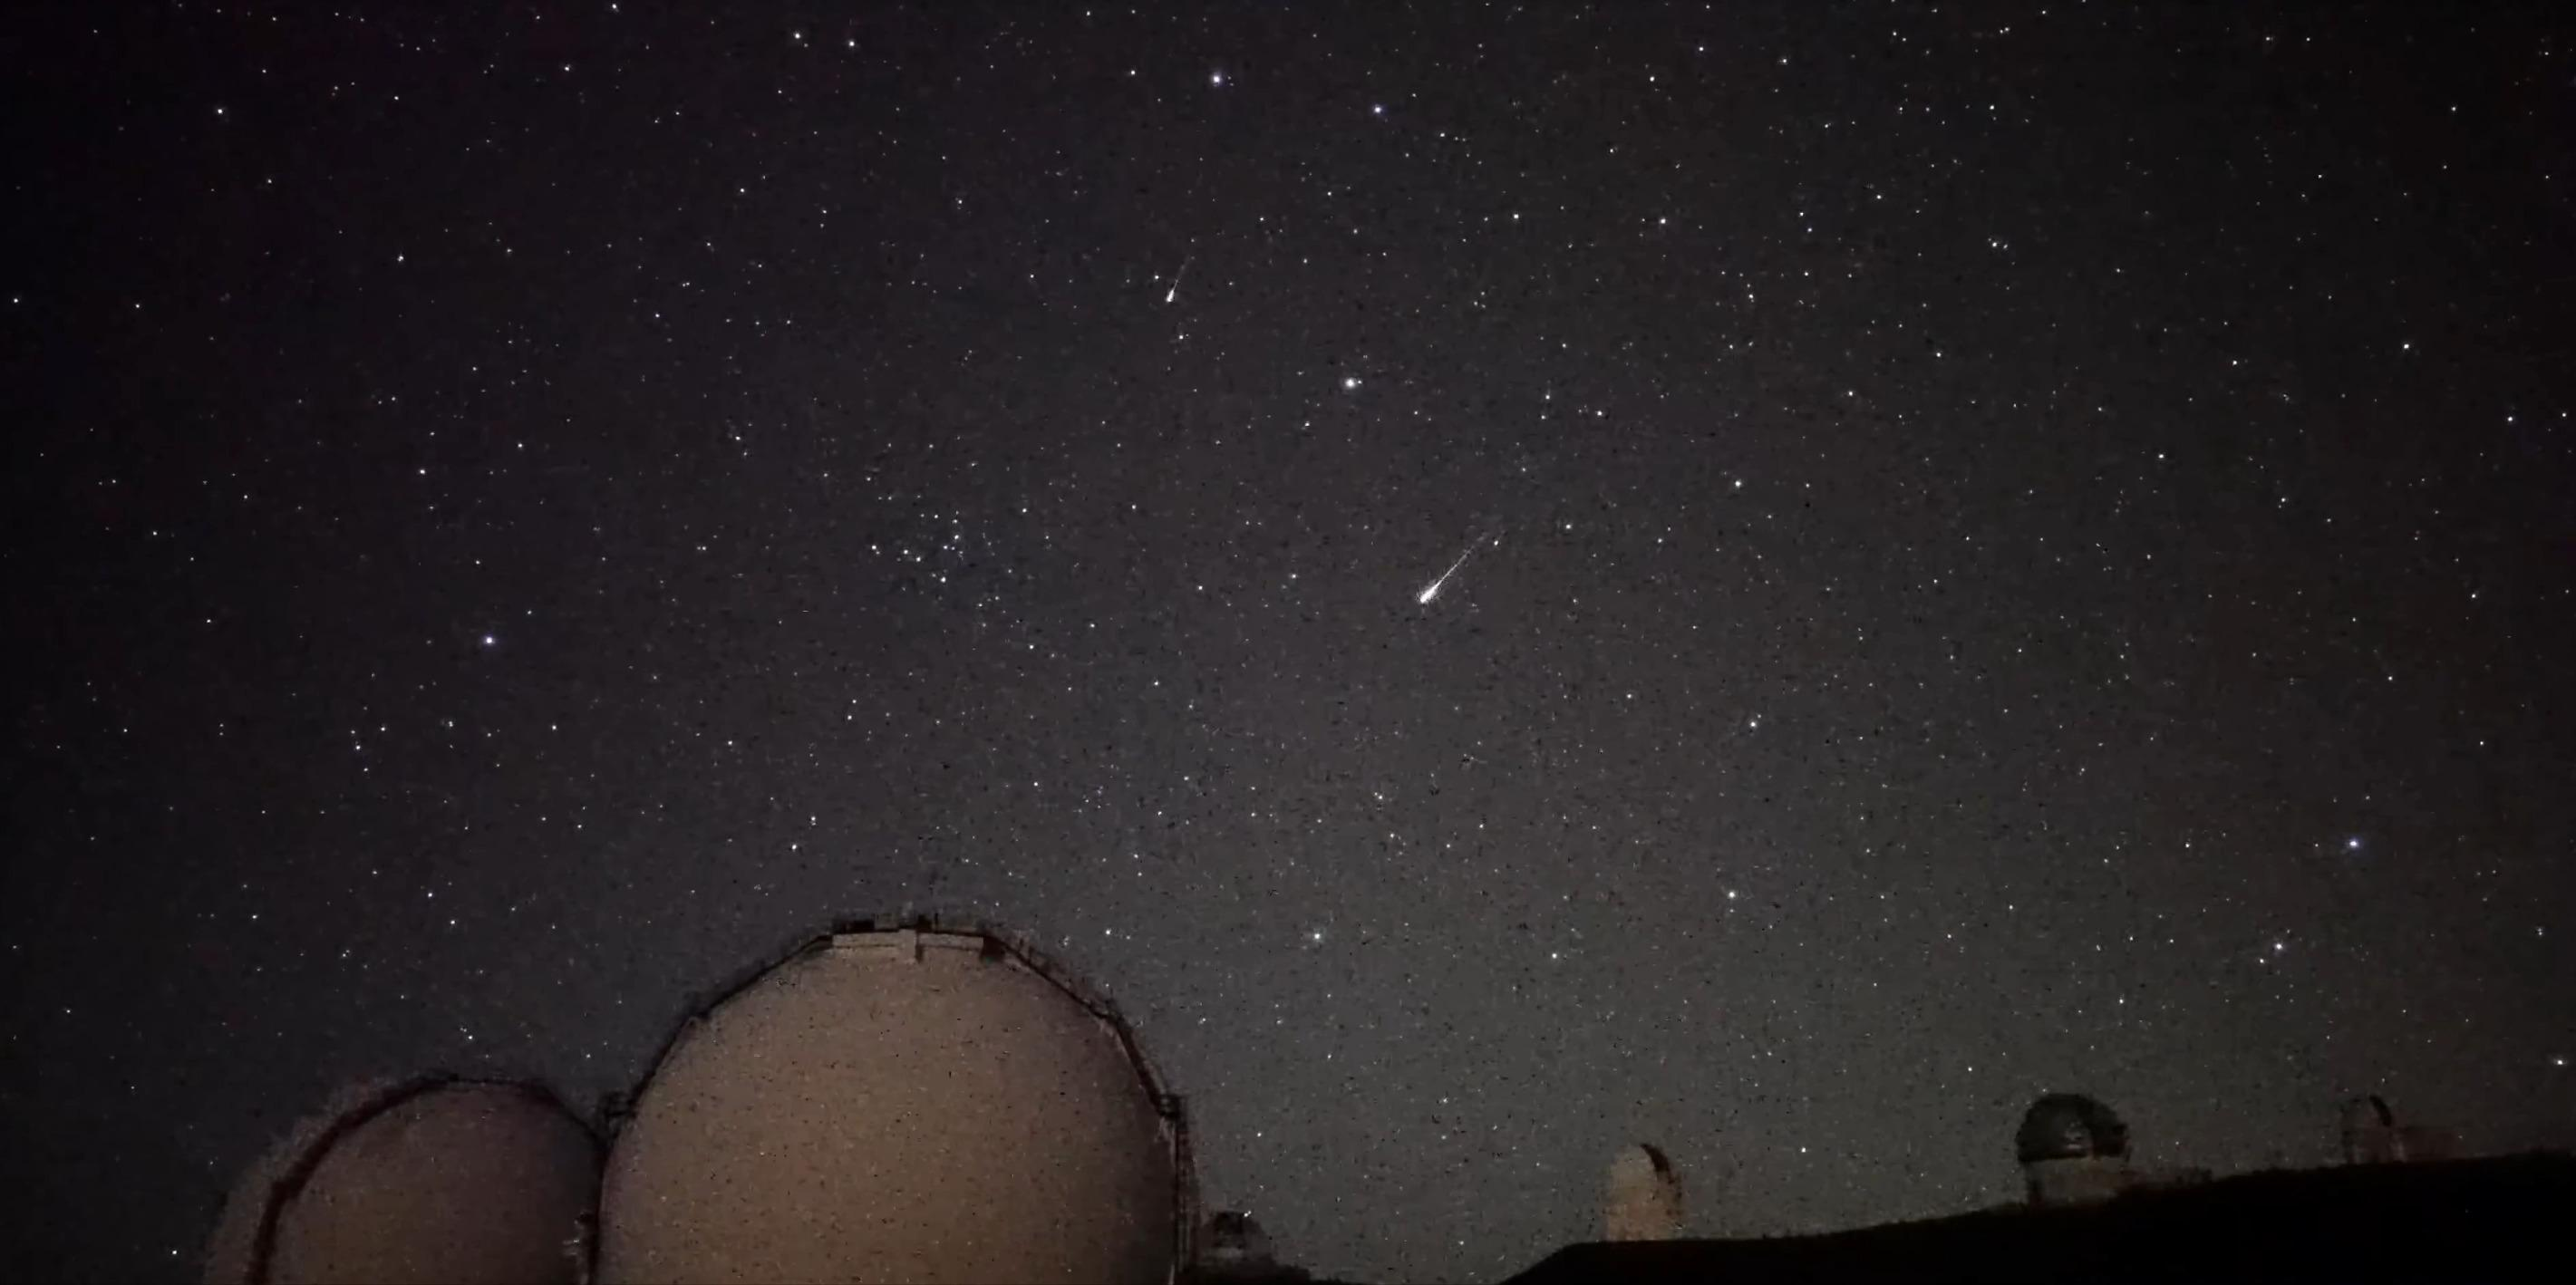meteorite: (1359, 538, 1535, 614), (1129, 251, 1209, 314)
